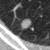node: (20, 17, 32, 31), (29, 27, 35, 31)
